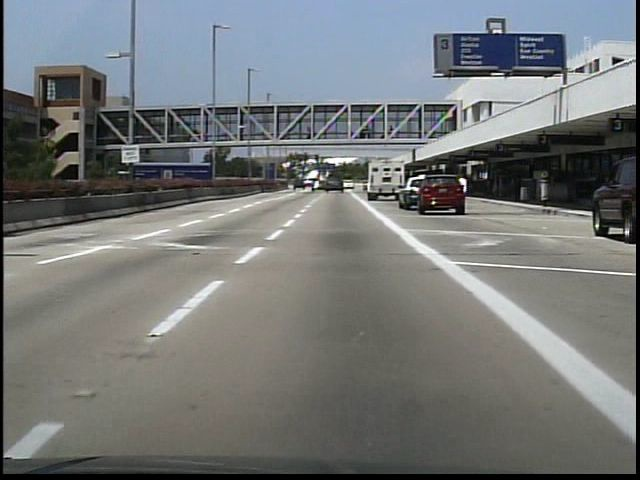person: (455, 174, 474, 212)
